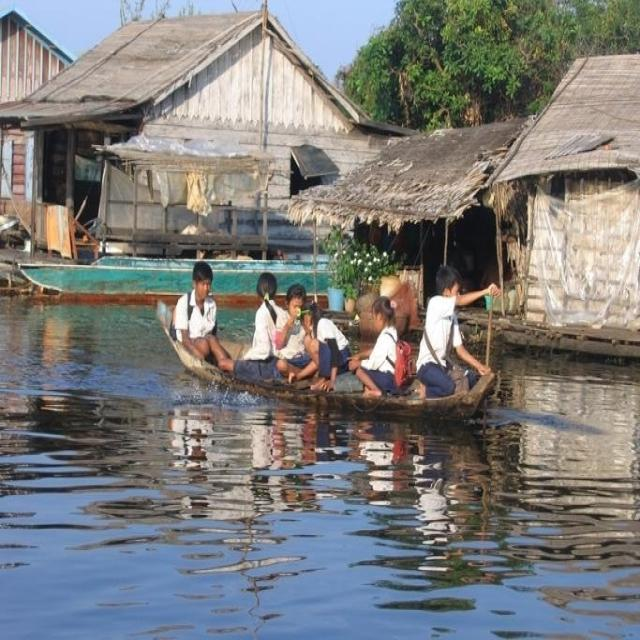boat: (146, 292, 523, 416)
